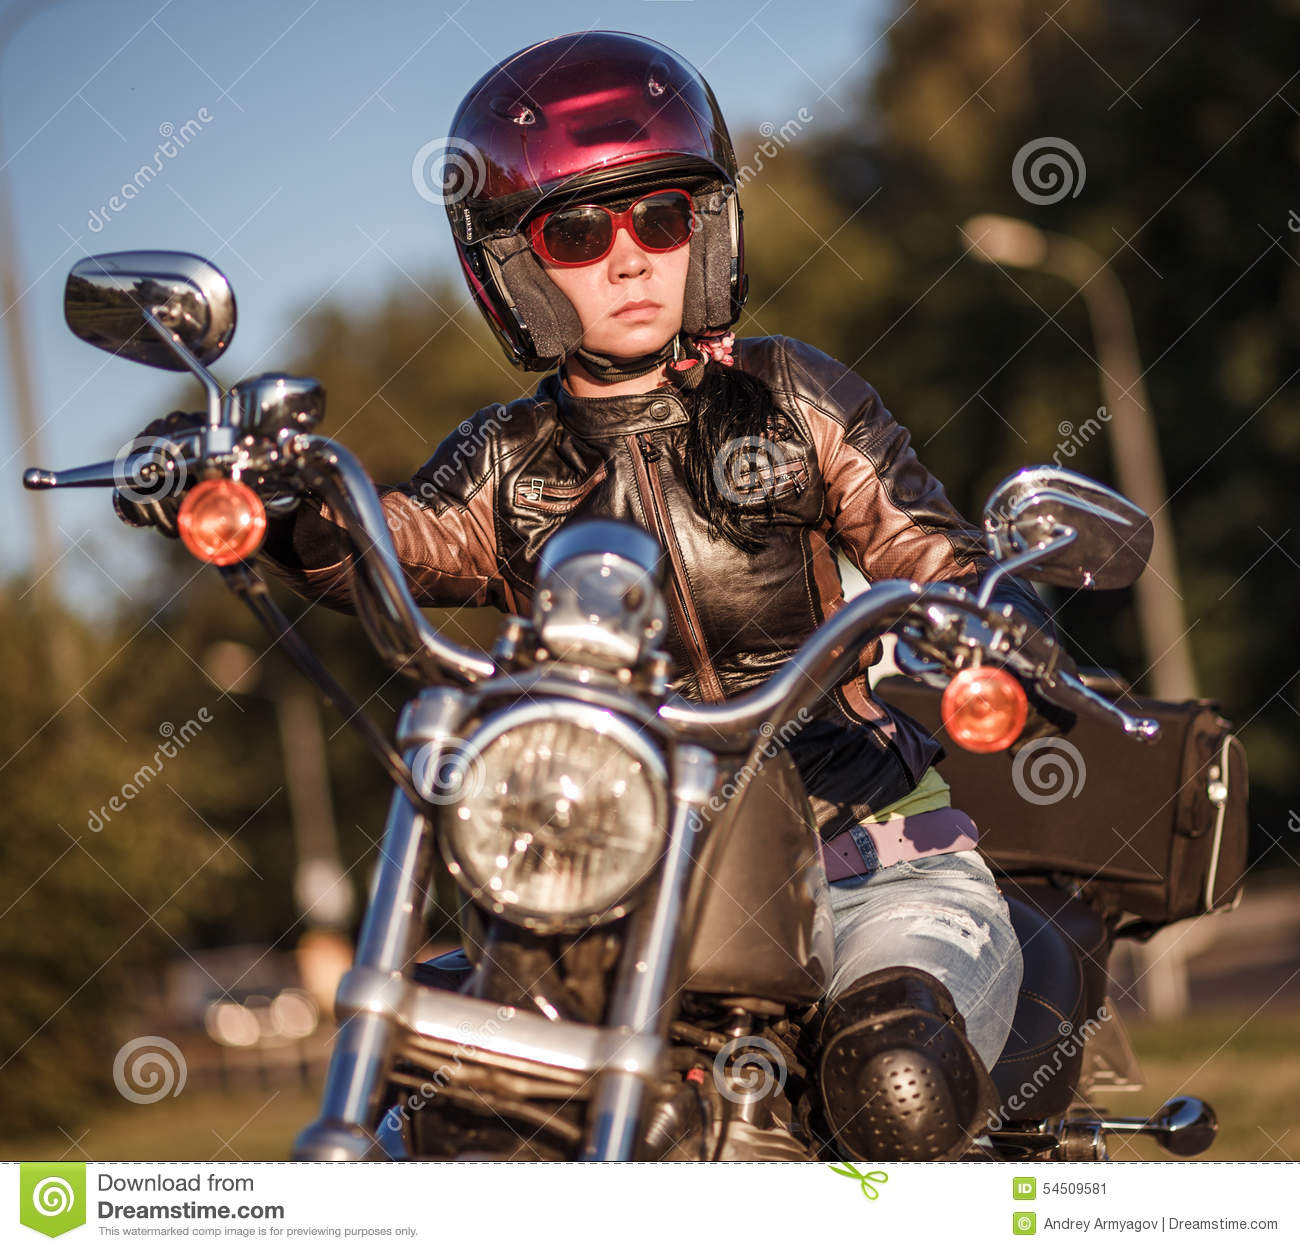helmet: (429, 39, 756, 355)
